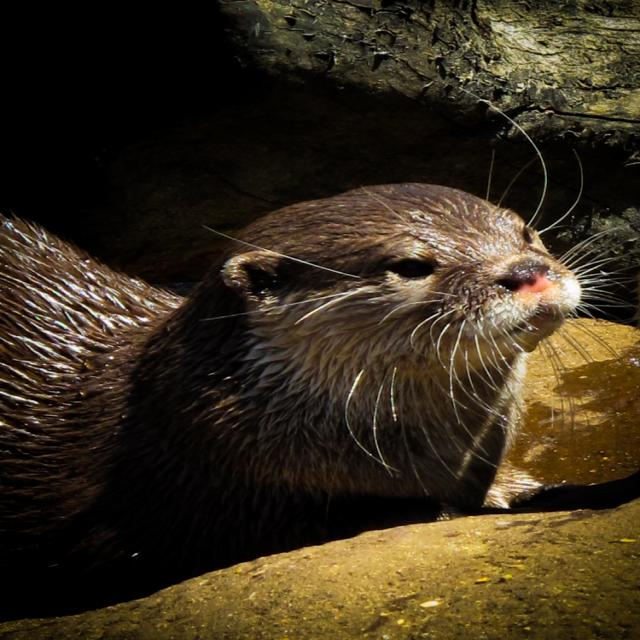otter: (1, 186, 582, 496)
